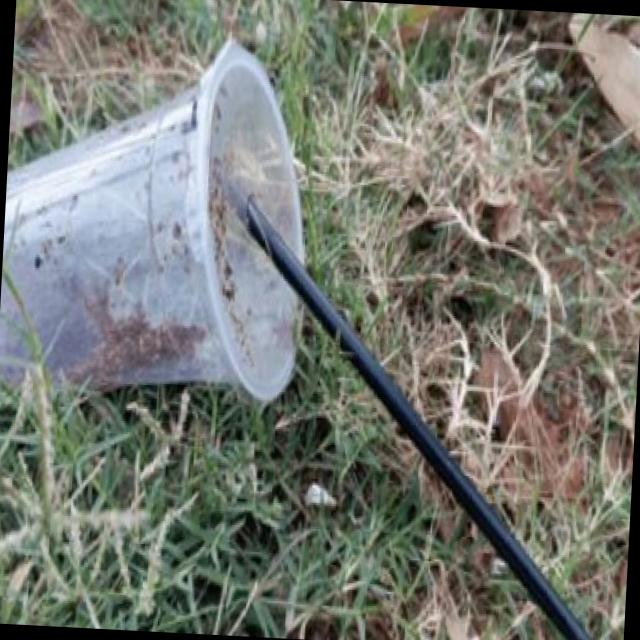electronic: (243, 202, 600, 640)
general: (0, 23, 317, 415)
